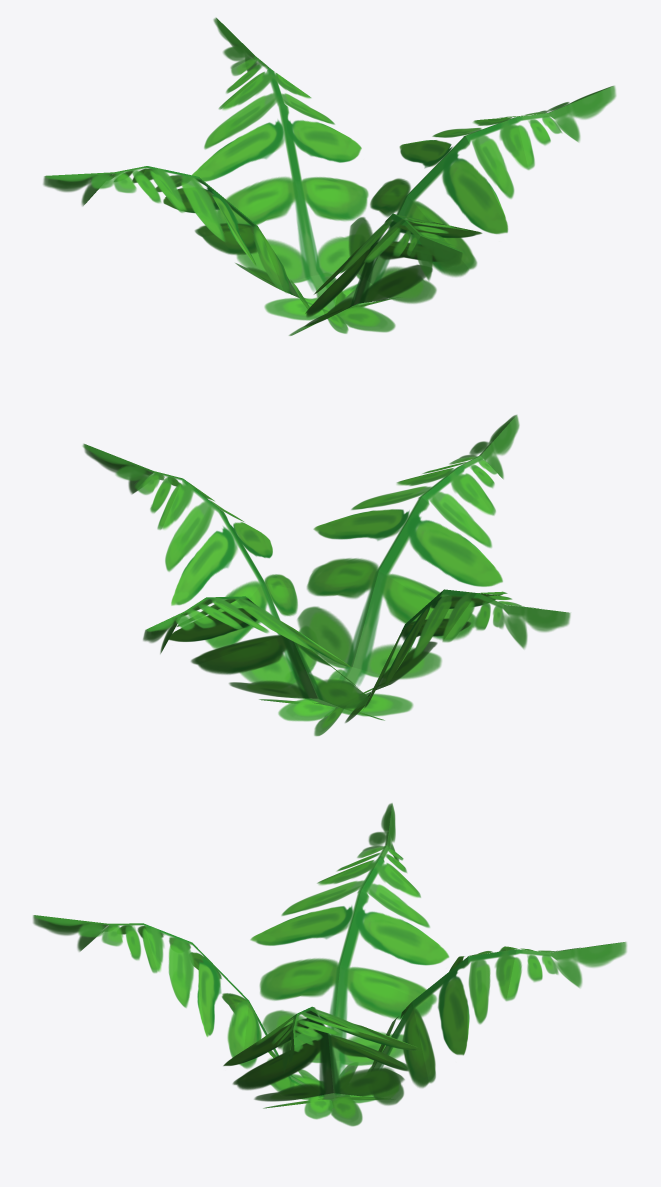
File: Plant001.glb
3 renders of one model, top to bottom at view 1: azimuth 30°, elevation 25°; view 2: azimuth 150°, elevation 25°; view 3: azimuth 270°, elevation 25°, orthographic. The views are drawn at different scales.
Parts seen in each view (by area): view 1: Plane.004; view 2: Plane.004; view 3: Plane.004.
Boxes of the visible parts, box(x1,y1,x2,y2) form: Plane.004: box(43, 17, 616, 335); Plane.004: box(82, 415, 570, 736); Plane.004: box(33, 803, 626, 1126).
Bounding box in the file's own units: 1.51 × 0.481 × 1.51.
Materials: 1 (1 with a texture image).
